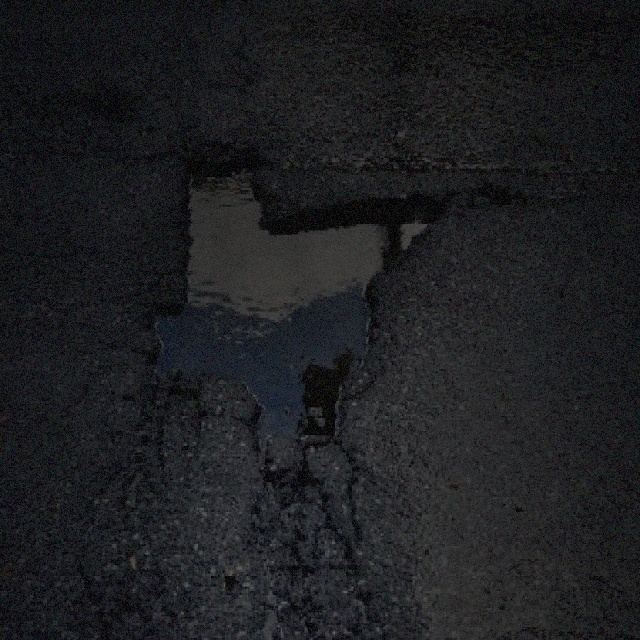pothole: (143, 140, 446, 458)
